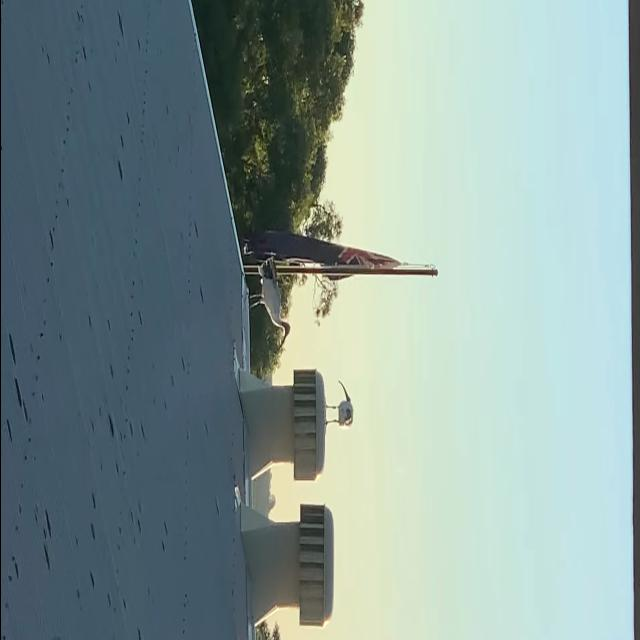Birds-Ibis: (246, 254, 292, 355), (322, 378, 354, 433)
